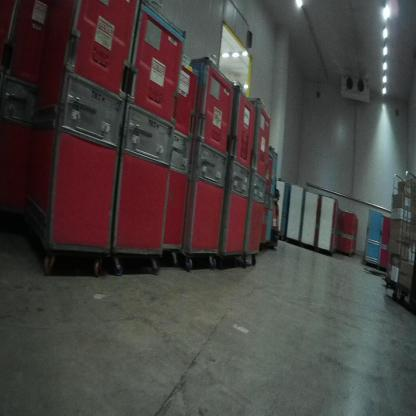pallet_truck: (261, 173, 284, 252)
